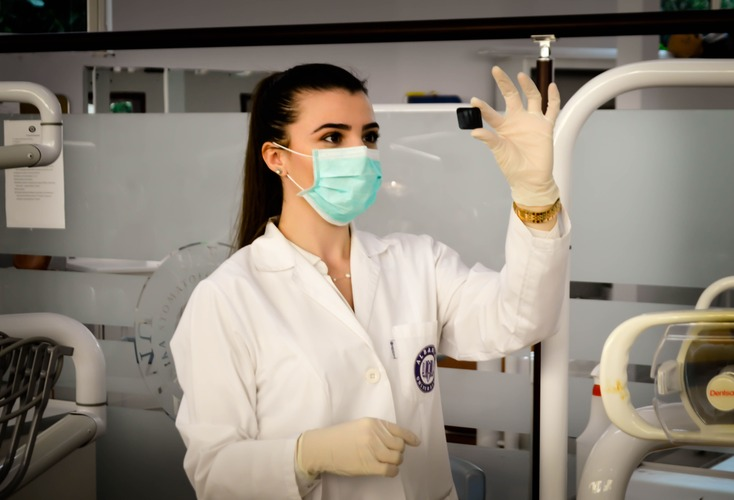with_mask: (283, 96, 383, 225)
